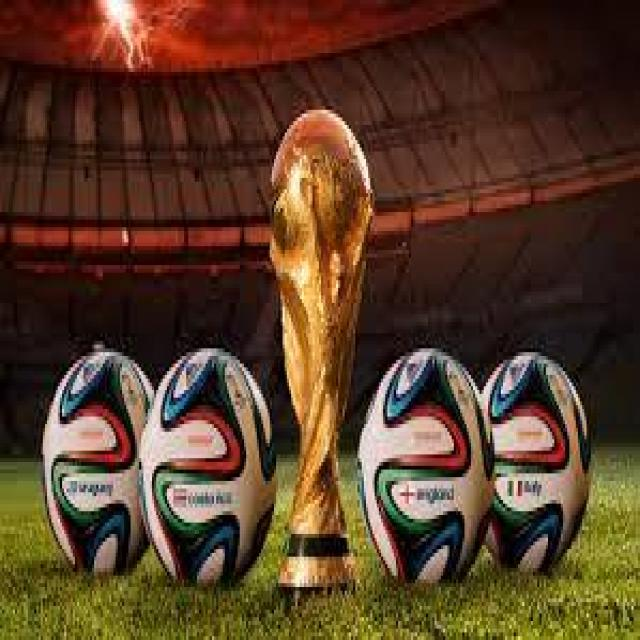Soccer Ball: (358, 348, 490, 587), (148, 356, 272, 583), (496, 352, 588, 572), (45, 356, 143, 560)
